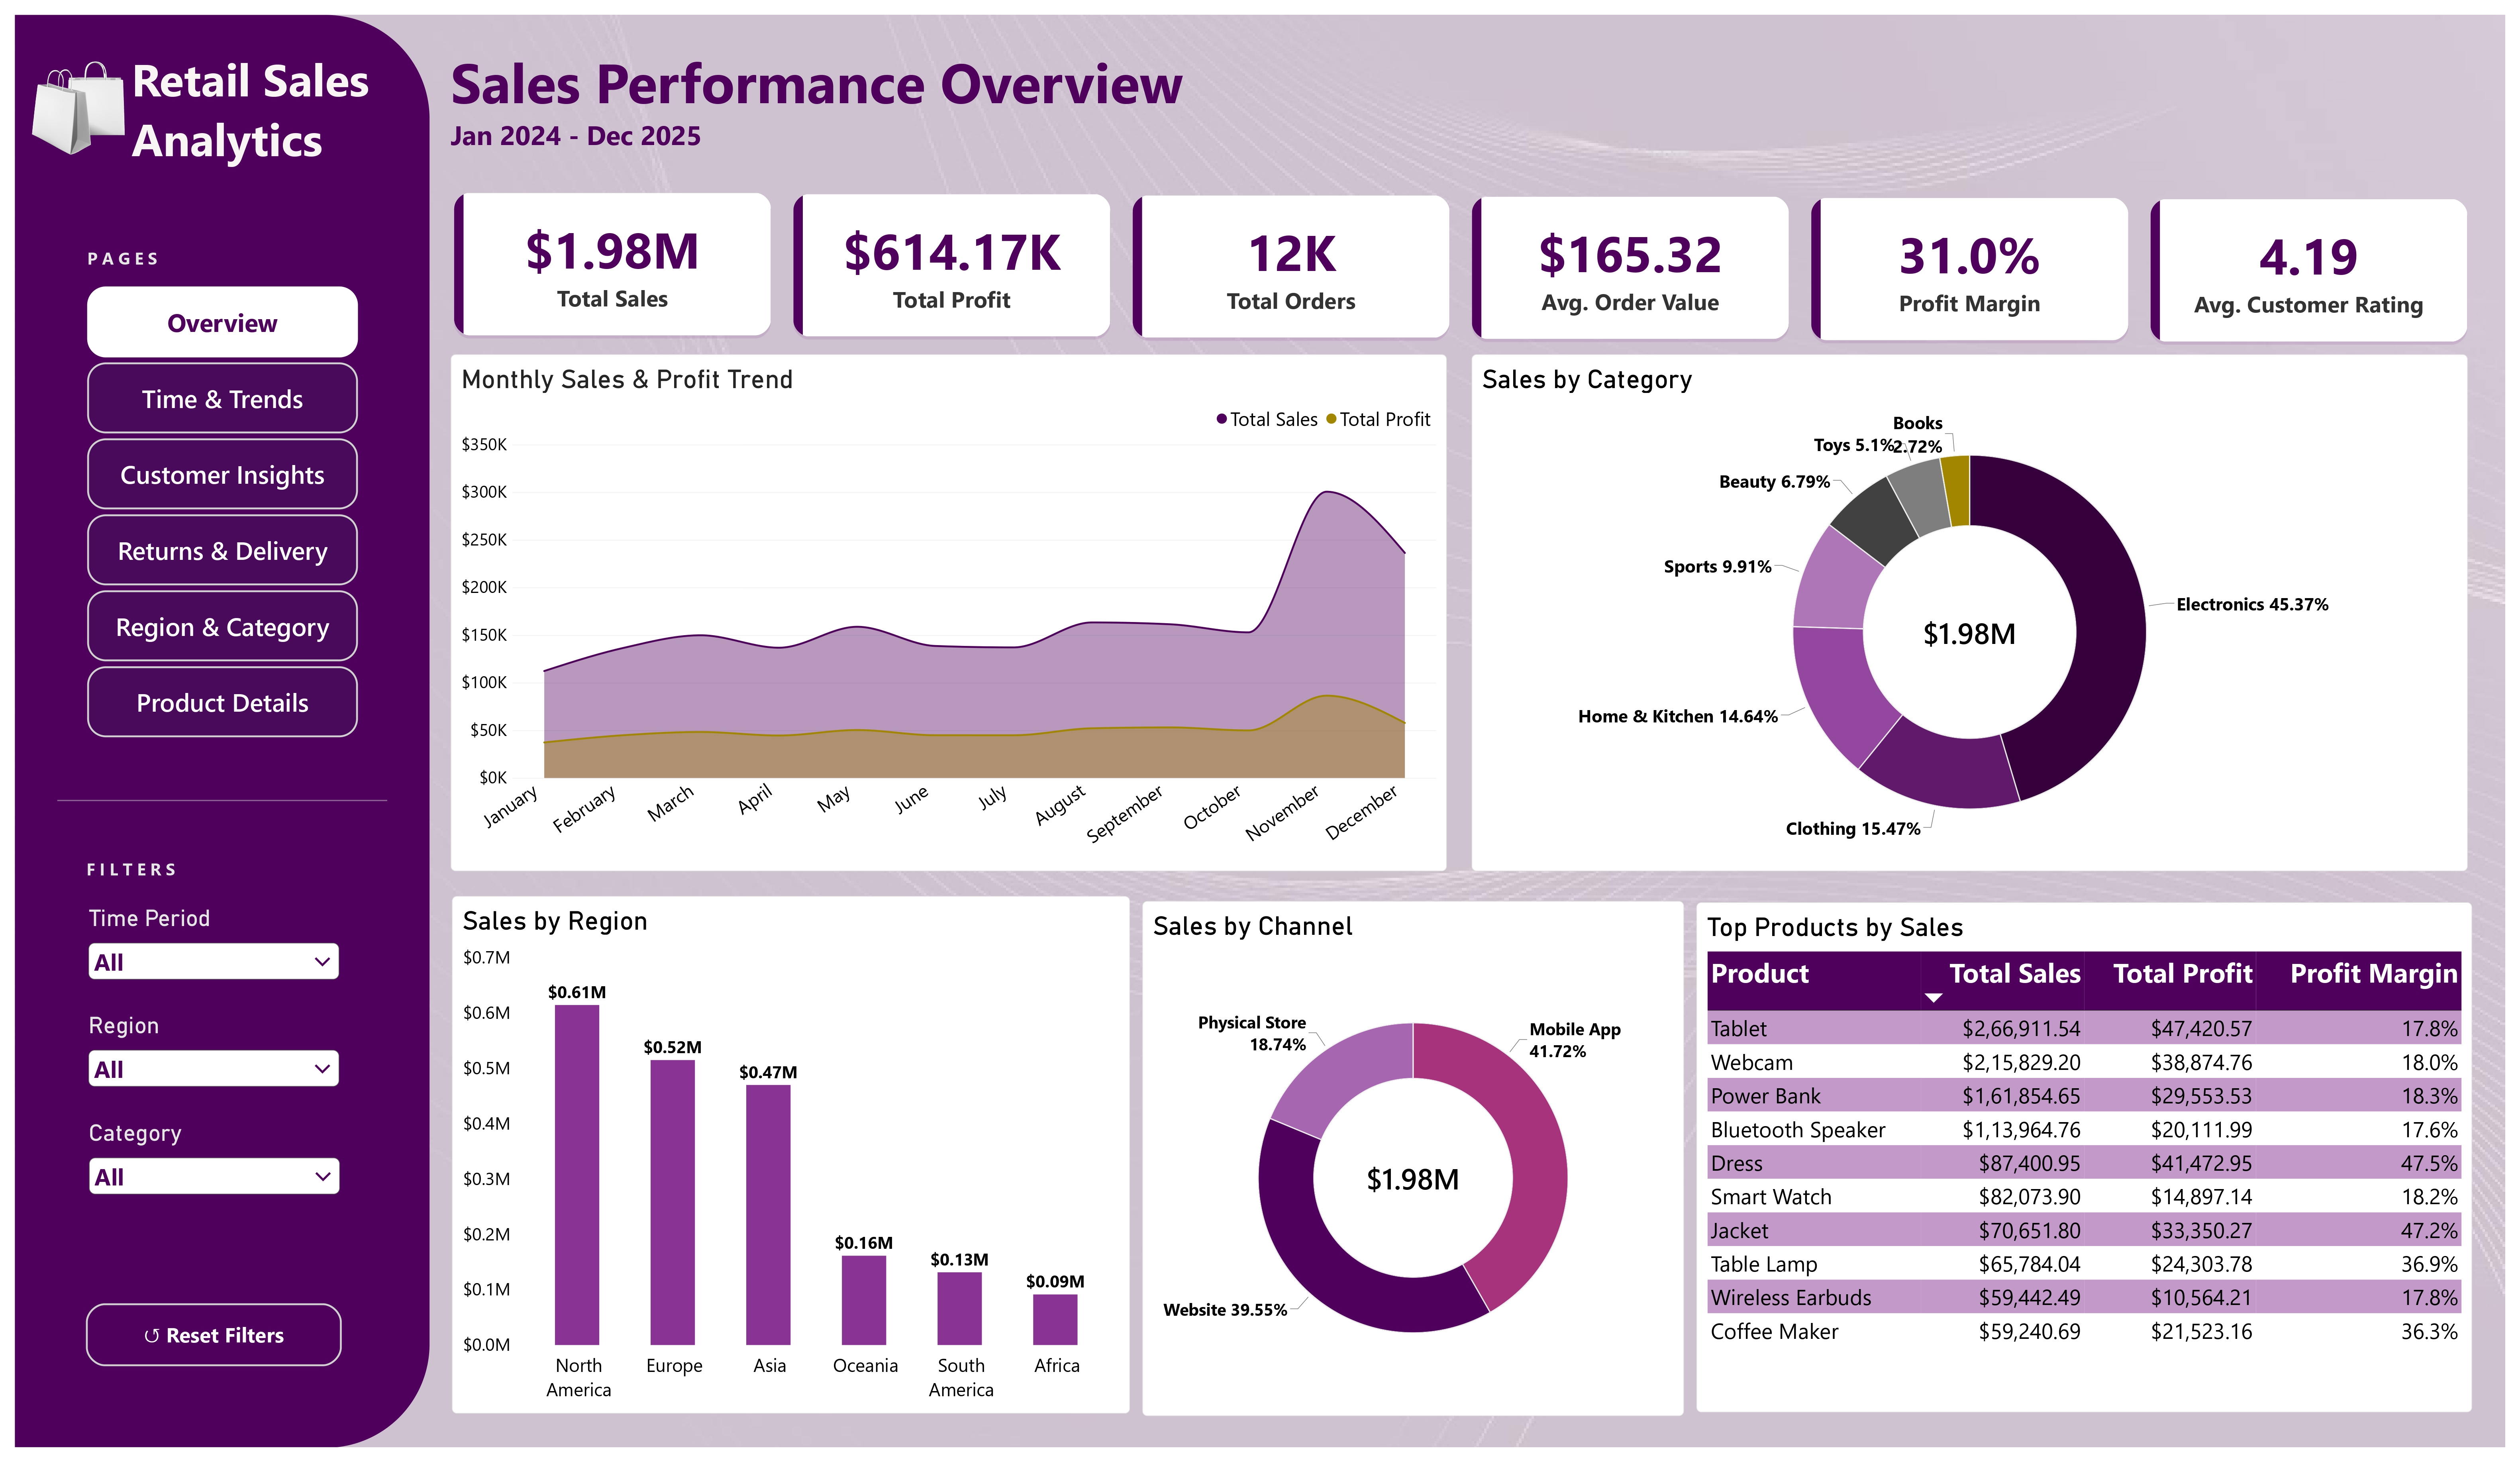

The dashboard page shown, as its layout file describes it:
{"tool":"powerbi","page":{"name":"Overview","canvas":[4000,2300],"ordinal":0},"visuals":[{"type":"shape","box":[0,0,666.3,2300.8],"z":0},{"type":"textbox","box":[186.7,53.3,419.4,215.6],"z":1000},{"type":"image","box":[0,35.3,203.8,227.3],"z":2000},{"type":"pageNavigator","box":[115.6,435.6,435.6,724.4],"z":3000},{"type":"textbox","box":[700,46.7,1236.7,143.3],"z":4000},{"type":"textbox","box":[700,163.3,420,70],"z":5000},{"type":"textbox","box":[116,372,132,40],"z":6000},{"type":"shape","box":[67.5,1150,530,222.5],"z":7000},{"type":"textbox","box":[115,1352.5,145,40],"z":8000},{"type":"listSlicer","title":"Time Period","fields":{"Values":["Date.Year"]},"box":[101.8,1413.6,435,160],"z":9000},{"type":"listSlicer","title":"Region","fields":{"Values":["Table1.region"]},"box":[102.2,1586.2,435,160],"z":10000},{"type":"listSlicer","title":"Category","fields":{"Values":["Table1.product_category"]},"box":[102.5,1758.8,435,160],"z":11000},{"type":"actionButton","box":[113.8,2068.8,411.2,101.2],"z":12000},{"type":"cardVisual","fields":{"Data":["Table1.Total Sales"]},"box":[700,280,520,240],"z":13000},{"type":"cardVisual","fields":{"Data":["Table1.Total Profit"]},"box":[1245,282,520,240],"z":14000},{"type":"cardVisual","title":"Average Order Value","fields":{"Data":["Table1.Average Sales"]},"box":[2335,286,520,240],"z":15000},{"type":"cardVisual","fields":{"Data":["Table1.Profit Margin"]},"box":[2880,288,520,240],"z":16000},{"type":"cardVisual","fields":{"Data":["Table1.Total Orders"]},"box":[1790,284,520,240],"z":17000},{"type":"cardVisual","fields":{"Data":["Table1.Avg. Customer Rating"]},"box":[3425,290,520,240],"z":18000},{"type":"areaChart","title":"Monthly Sales & Profit Trend","fields":{"Category":["Date.Month"],"Y":["Table1.Total Sales","Table1.Total Profit"]},"box":[700,545,1600,830],"z":19000},{"type":"donutChart","title":"Sales by Category","fields":{"Category":["Table1.product_category"],"Y":["Table1.Total Sales"]},"box":[2340,545,1600,830],"z":20000},{"type":"clusteredColumnChart","title":"Sales by Region","fields":{"Category":["Table1.region"],"Y":["Table1.Total Sales"]},"box":[701.6,1415,1089.6,831],"z":21000},{"type":"donutChart","title":"Sales by Channel","fields":{"Category":["Table1.order_channel"],"Y":["Table1.Total Sales"]},"box":[1810.8,1422.8,870.1,827],"z":22000},{"type":"tableEx","title":"Top Products by Sales","fields":{"Values":["Table1.product_name","Table1.Total Sales","Table1.Total Profit","Table1.Profit Margin"]},"box":[2700.6,1424.8,1246.4,819.2],"z":23000}]}

Visuals, with their boxes on the page's 4000x2300 design canvas (x1, y1, x2, y2). These are canvas units, not pixel positions in the 2520x1462 screenshot, which may show the page scaled, cropped or inside an application window:
shape: {"left": 0, "top": 0, "right": 666, "bottom": 2301}
textbox: {"left": 187, "top": 53, "right": 606, "bottom": 269}
image: {"left": 0, "top": 35, "right": 204, "bottom": 263}
pageNavigator: {"left": 116, "top": 436, "right": 551, "bottom": 1160}
textbox: {"left": 700, "top": 47, "right": 1937, "bottom": 190}
textbox: {"left": 700, "top": 163, "right": 1120, "bottom": 233}
textbox: {"left": 116, "top": 372, "right": 248, "bottom": 412}
shape: {"left": 68, "top": 1150, "right": 598, "bottom": 1372}
textbox: {"left": 115, "top": 1352, "right": 260, "bottom": 1392}
"Time Period" listSlicer: {"left": 102, "top": 1414, "right": 537, "bottom": 1574}
"Region" listSlicer: {"left": 102, "top": 1586, "right": 537, "bottom": 1746}
"Category" listSlicer: {"left": 102, "top": 1759, "right": 538, "bottom": 1919}
actionButton: {"left": 114, "top": 2069, "right": 525, "bottom": 2170}
cardVisual - Table1.Total Sales: {"left": 700, "top": 280, "right": 1220, "bottom": 520}
cardVisual - Table1.Total Profit: {"left": 1245, "top": 282, "right": 1765, "bottom": 522}
"Average Order Value" cardVisual: {"left": 2335, "top": 286, "right": 2855, "bottom": 526}
cardVisual - Table1.Profit Margin: {"left": 2880, "top": 288, "right": 3400, "bottom": 528}
cardVisual - Table1.Total Orders: {"left": 1790, "top": 284, "right": 2310, "bottom": 524}
cardVisual - Table1.Avg. Customer Rating: {"left": 3425, "top": 290, "right": 3945, "bottom": 530}
"Monthly Sales & Profit Trend" areaChart: {"left": 700, "top": 545, "right": 2300, "bottom": 1375}
"Sales by Category" donutChart: {"left": 2340, "top": 545, "right": 3940, "bottom": 1375}
"Sales by Region" clusteredColumnChart: {"left": 702, "top": 1415, "right": 1791, "bottom": 2246}
"Sales by Channel" donutChart: {"left": 1811, "top": 1423, "right": 2681, "bottom": 2250}
"Top Products by Sales" tableEx: {"left": 2701, "top": 1425, "right": 3947, "bottom": 2244}
